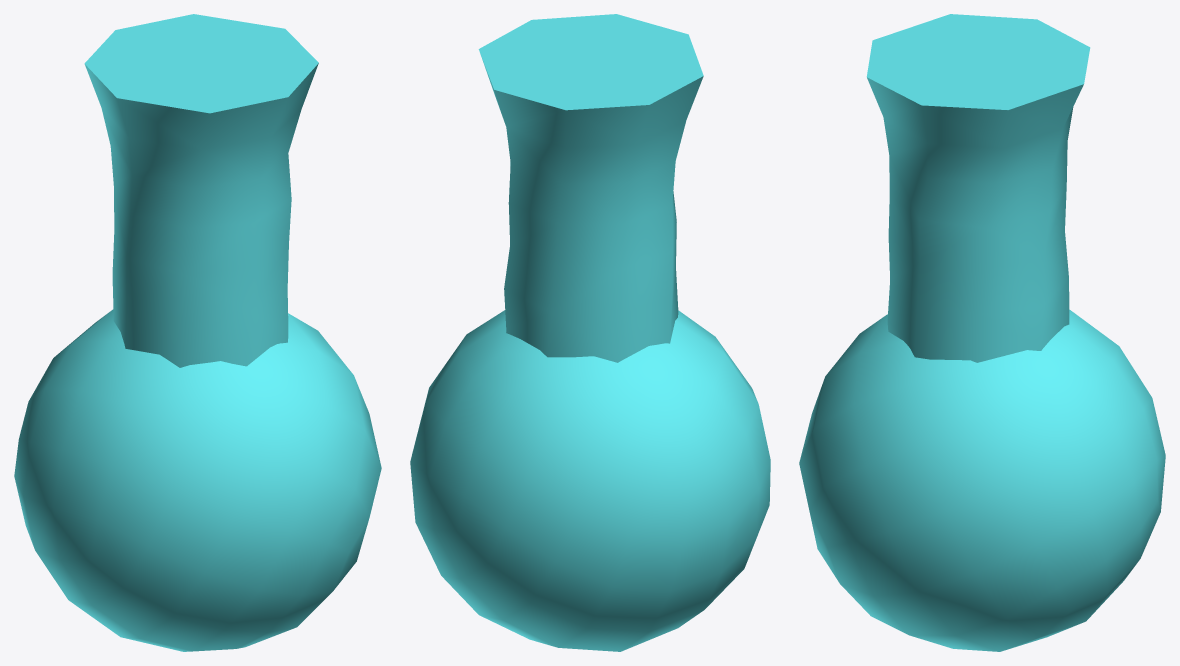
The model's file is postion-light blue.fbx.
3 views of the same model, side by side, from view 1: azimuth 30°, elevation 25°; view 2: azimuth 150°, elevation 25°; view 3: azimuth 270°, elevation 25° (orthographic).
Parts seen in each view (by area): view 1: Cylinder001; view 2: Cylinder001; view 3: Cylinder001.
Part boxes in pixels (bbox=[...]): Cylinder001: bbox=[14, 14, 381, 651]; Cylinder001: bbox=[410, 14, 770, 651]; Cylinder001: bbox=[799, 14, 1165, 651].
Bounding box in the file's own units: 0.9521 × 1.66 × 0.9628.
